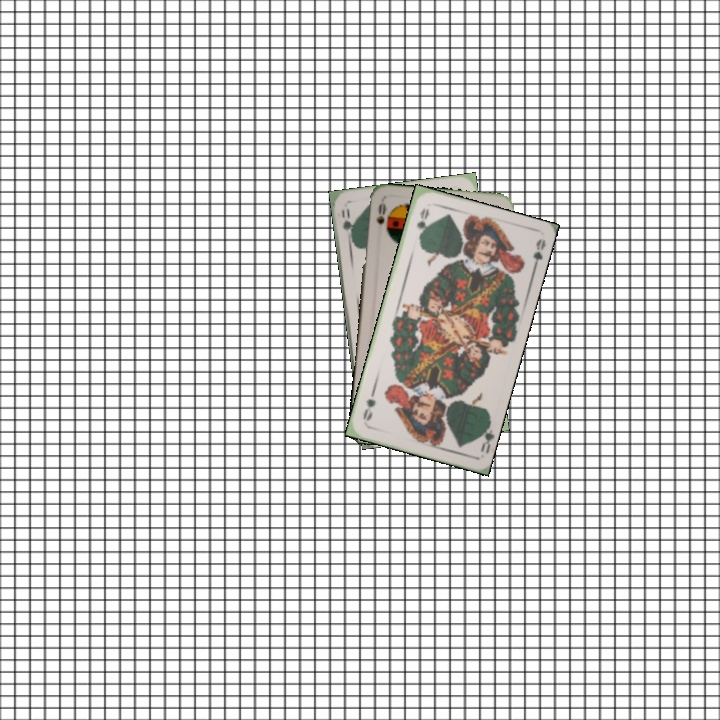GO: (473, 416, 495, 455), (412, 204, 432, 243), (337, 204, 356, 245)
SO: (372, 199, 388, 227)
